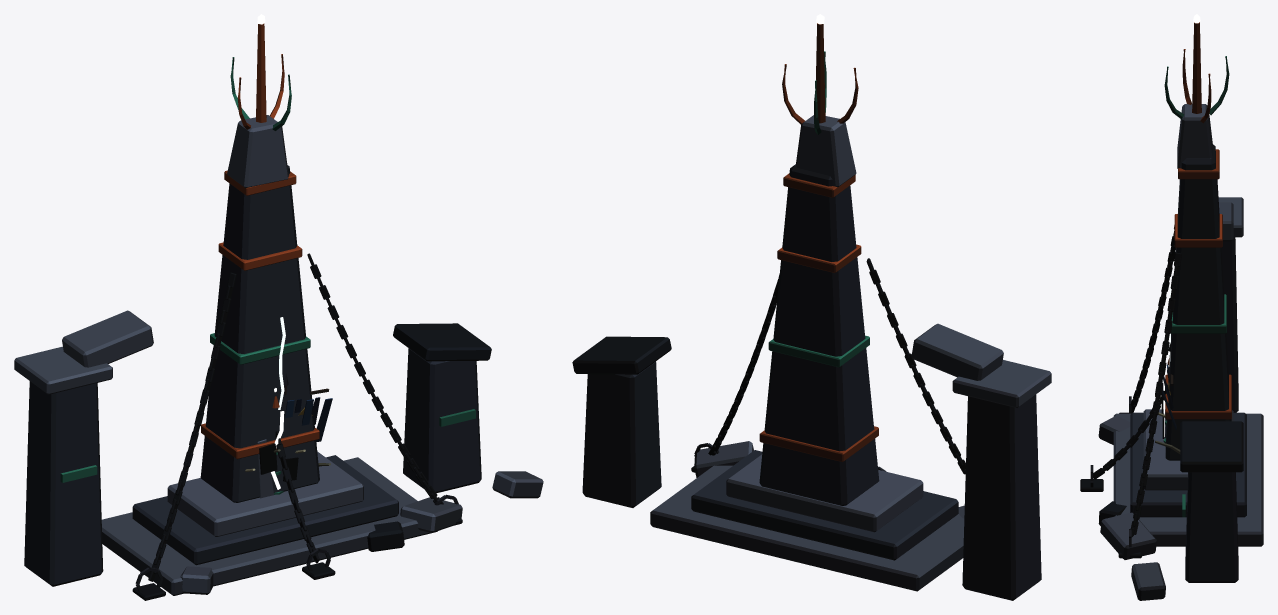
Rendered from storm_kit_components.glb.
3 views of the same model, side by side, from view 1: azimuth 30°, elevation 25°; view 2: azimuth 150°, elevation 25°; view 3: azimuth 270°, elevation 25° (orthographic). The views are drawn at different scales.
Visible parts, largest first — view 1: Kit_LightningSpire, Kit_GroundingChain, Kit_SplitMenhir, Kit_TornBanner; view 2: Kit_LightningSpire; view 3: Kit_LightningSpire, Kit_GroundingChain, Kit_TornBanner.
Part boxes in pixels (x1,y1,x2,y2): Kit_LightningSpire: (14,14,543,600); Kit_GroundingChain: (275,431,335,579); Kit_SplitMenhir: (257,439,298,498); Kit_TornBanner: (283,373,332,442); Kit_LightningSpire: (572,14,1051,600); Kit_LightningSpire: (1098,14,1263,600); Kit_GroundingChain: (1080,384,1168,491); Kit_TornBanner: (1162,341,1176,429).
Bounding box in the file's own units: 30.08 × 31.64 × 11.
